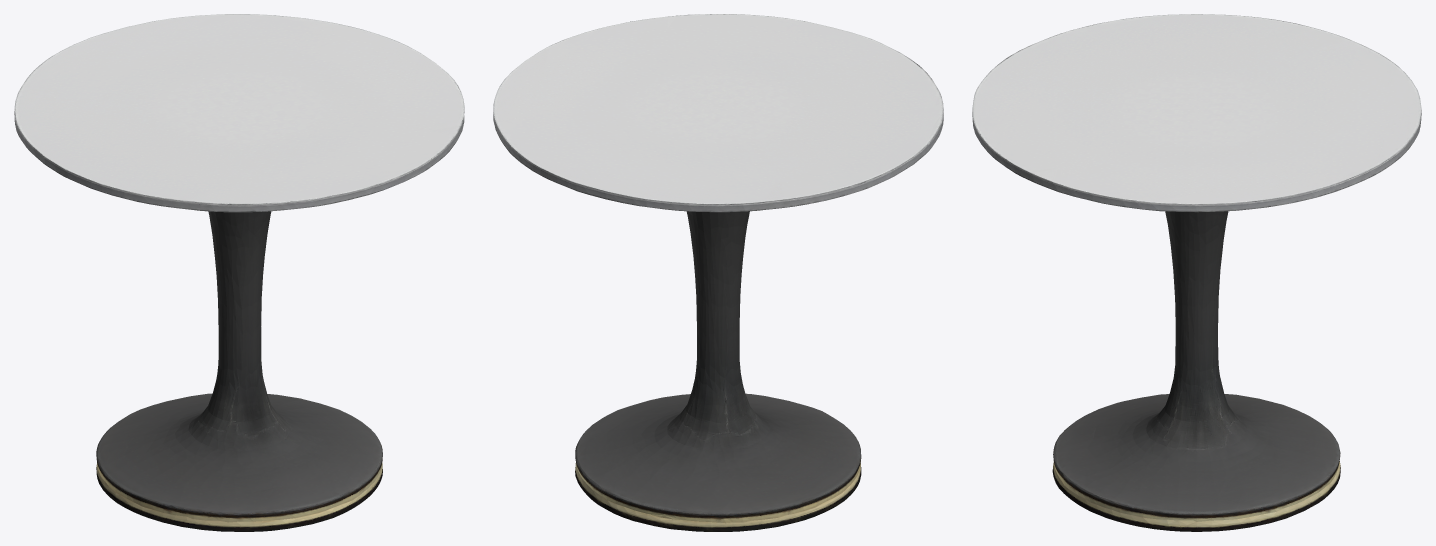
Rendered from lounge_table.glb.
The picture shows the model from 3 angles, left to right: view 1: azimuth 30°, elevation 25°; view 2: azimuth 150°, elevation 25°; view 3: azimuth 270°, elevation 25°; orthographic projection.
Visible parts, largest first — view 1: world; view 2: world; view 3: world.
Part boxes in pixels (x1=…): world: x1=14, y1=14, x2=464, y2=531; world: x1=493, y1=14, x2=943, y2=531; world: x1=972, y1=14, x2=1421, y2=531.
Bounding box in the file's own units: 0.5549 × 0.4941 × 0.5544.
Materials: 1 (1 with a texture image).
